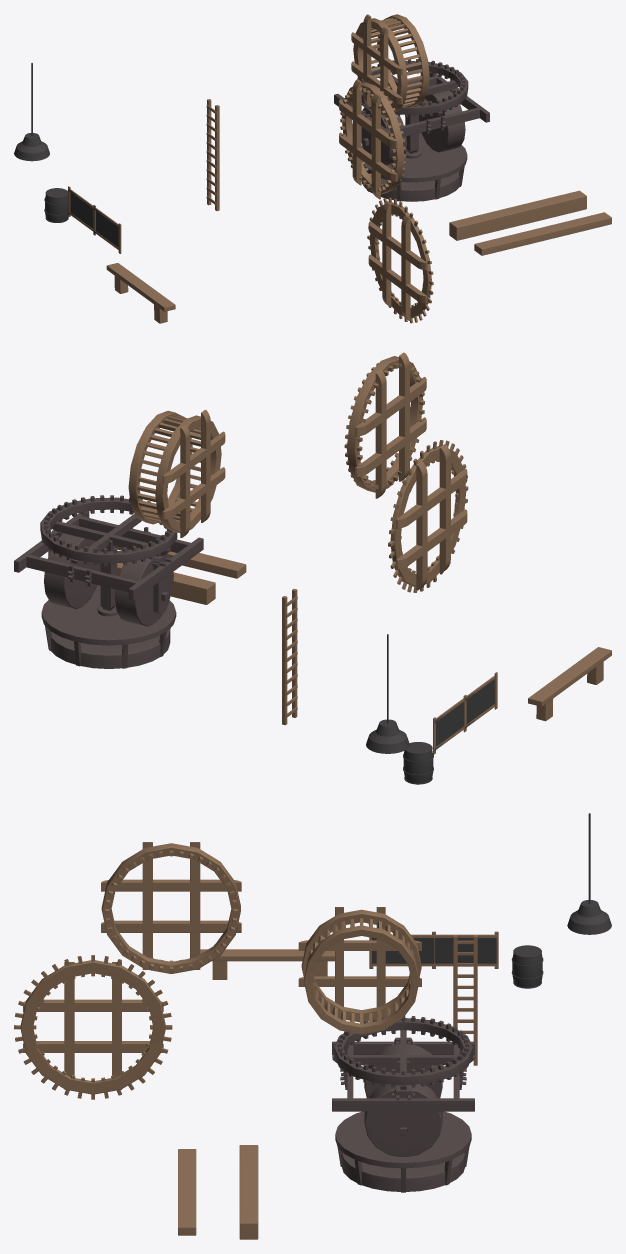
Rendered from PropsUVMappedV3.fbx.
3 renders of one model, top to bottom at view 1: azimuth 30°, elevation 25°; view 2: azimuth 150°, elevation 25°; view 3: azimuth 270°, elevation 25°, orthographic. The views are drawn at different scales.
Parts seen in each view (by area): view 1: Grinder_A, Base_LowPoly, Grinder_B, Plank_C4, Plank_C8, Grinder_A1, polySurface42, Corkboard, Bench, Ladder, Plank_A_M, Plank_A_L (+10 smaller); view 2: Grinder_A, Base_LowPoly, Grinder_B, Plank_C4, Plank_C8, Grinder_A1, polySurface42, Corkboard, Bench, Ladder, Barrel, LampShade (+6 smaller); view 3: Grinder_A, polySurface42, Base_LowPoly, Grinder_B, Plank_C8, Grinder_A1, Plank_C4, Corkboard, Bench, Ladder, Barrel, LampShade (+8 smaller).
Boxes of the visible parts, bbox=[...] form: Grinder_A: bbox=[334, 59, 489, 165]; Base_LowPoly: bbox=[361, 133, 467, 201]; Grinder_B: bbox=[353, 14, 429, 112]; Plank_C4: bbox=[368, 201, 427, 320]; Plank_C8: bbox=[339, 79, 397, 199]; Grinder_A1: bbox=[340, 82, 406, 194]; polySurface42: bbox=[367, 197, 433, 323]; Corkboard: bbox=[68, 186, 121, 253]; Bench: bbox=[106, 263, 175, 323]; Ladder: bbox=[206, 99, 219, 210]; Plank_A_M: bbox=[489, 200, 547, 231]; Plank_A_L: bbox=[449, 213, 495, 240]; Grinder_A: bbox=[14, 495, 203, 626]; Base_LowPoly: bbox=[41, 585, 176, 668]; Grinder_B: bbox=[128, 410, 221, 532]; Plank_C4: bbox=[396, 444, 467, 590]; Plank_C8: bbox=[355, 352, 426, 498]; Grinder_A1: bbox=[344, 356, 424, 492]; polySurface42: bbox=[388, 440, 468, 592]; Corkboard: bbox=[433, 672, 497, 754]; Bench: bbox=[528, 647, 611, 721]; Ladder: bbox=[282, 588, 297, 725]; Barrel: bbox=[403, 742, 433, 784]; LampShade: bbox=[366, 719, 409, 753]; Grinder_A: bbox=[332, 1016, 474, 1156]; polySurface42: bbox=[14, 955, 172, 1099]; Base_LowPoly: bbox=[335, 1111, 471, 1192]; Grinder_B: bbox=[301, 909, 421, 1034]; Plank_C8: bbox=[101, 842, 241, 969]; Grinder_A1: bbox=[101, 843, 240, 973]; Plank_C4: bbox=[23, 962, 163, 1089]; Corkboard: bbox=[369, 931, 498, 968]; Bench: bbox=[200, 949, 334, 979]; Ladder: bbox=[453, 934, 477, 1065]; Barrel: bbox=[511, 945, 543, 988]; LampShade: bbox=[567, 900, 611, 934].
Size of the model in its own units: 10.1 by 4.56 by 9.64.
